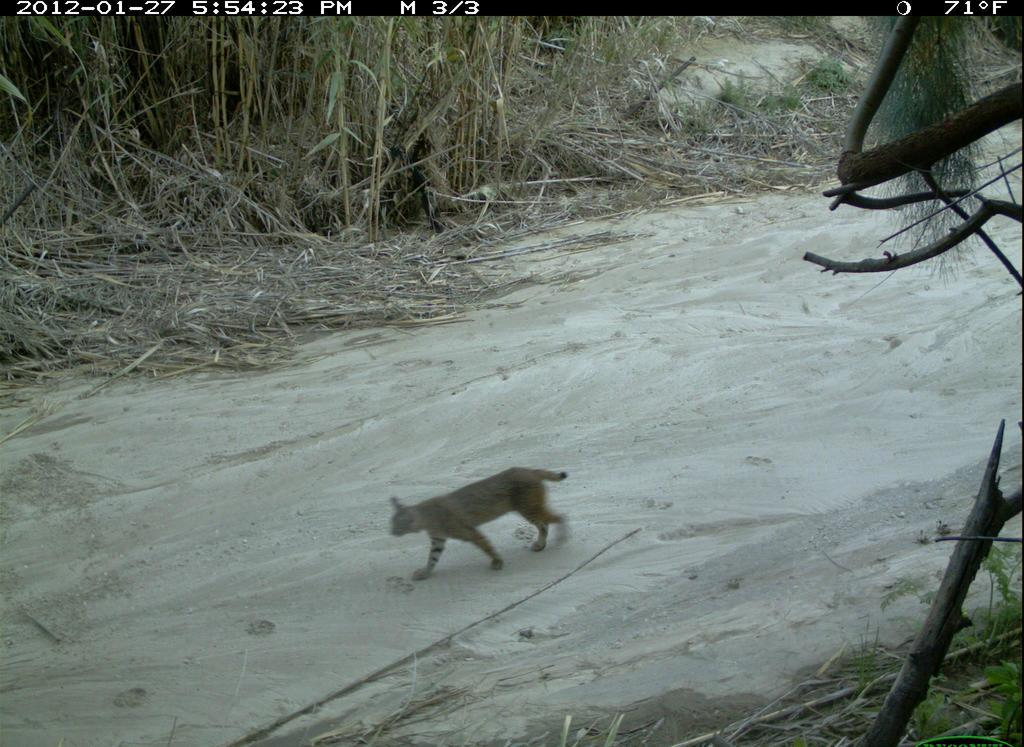bobcat: (381, 461, 581, 592)
